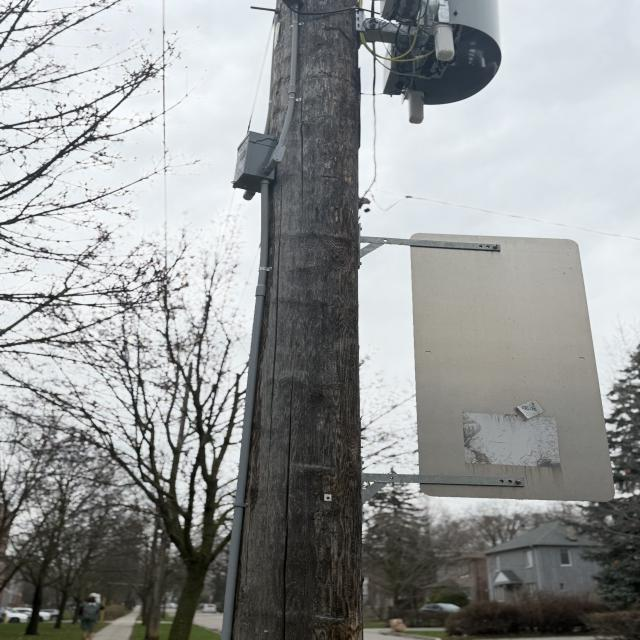Electrical Pole: (222, 4, 500, 640)
